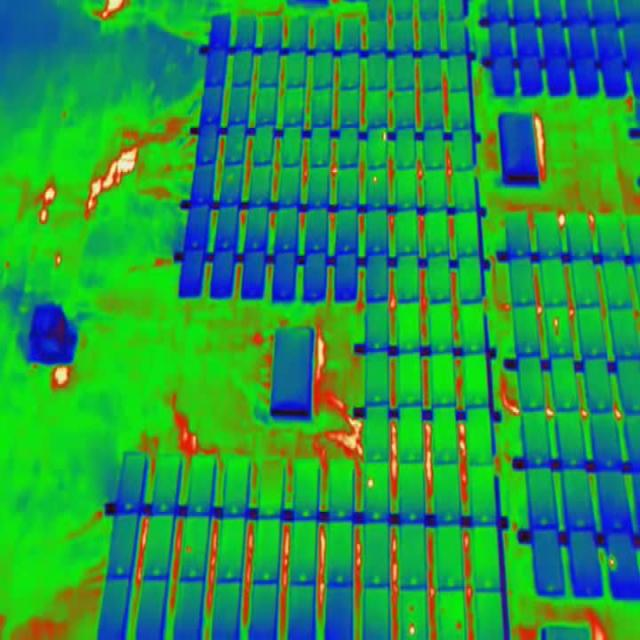Orange-Spots: (553, 317, 560, 336), (609, 554, 616, 569), (409, 624, 416, 636), (455, 619, 462, 631), (367, 478, 375, 488), (408, 603, 415, 613), (381, 131, 386, 142), (373, 176, 378, 183)
